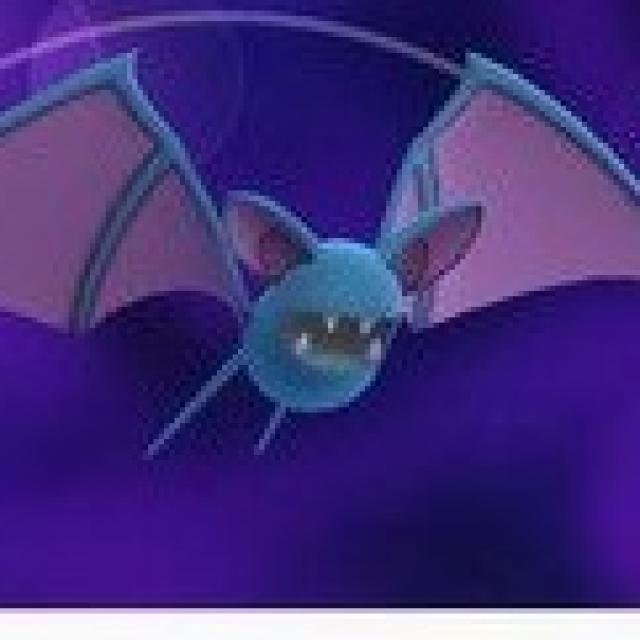Zubat: (0, 31, 640, 502)
